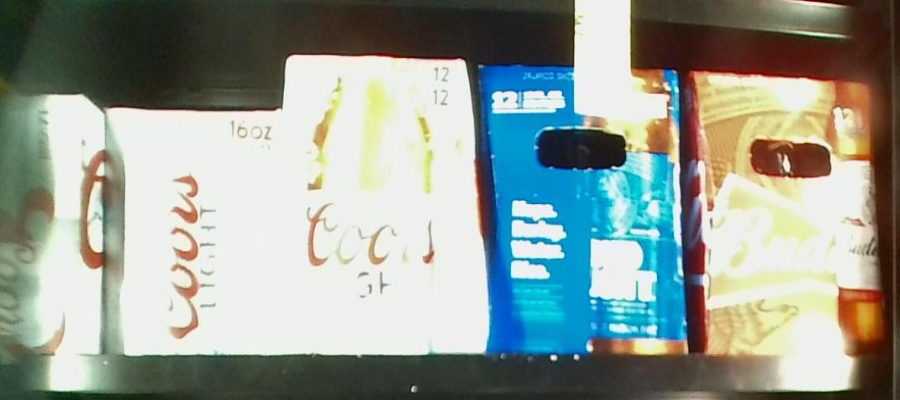bottle: (283, 54, 487, 354), (479, 56, 685, 353), (689, 68, 888, 352), (104, 105, 282, 351), (1, 89, 104, 354)
